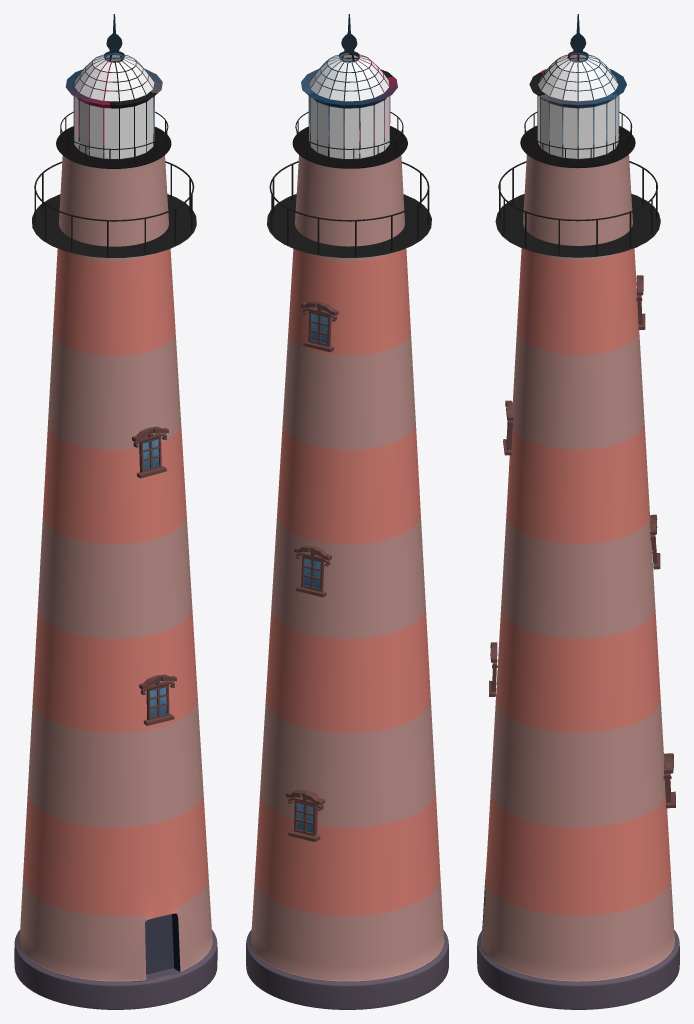
File: Low-Poly_Lighthouse.glb
The picture shows the model from 3 angles, left to right: view 1: azimuth 30°, elevation 25°; view 2: azimuth 150°, elevation 25°; view 3: azimuth 270°, elevation 25°; orthographic projection.
Parts seen in each view (by area): view 1: unnamed (×8); view 2: unnamed (×9); view 3: unnamed (×7).
Part boxes in pixels (x1=…): unnamed (×8): x1=14, y1=53, x2=217, y2=1009; unnamed (×9): x1=246, y1=53, x2=448, y2=1009; unnamed (×7): x1=477, y1=53, x2=679, y2=1009.
Bounding box in the file's own units: 0.5122 × 2.65 × 0.5122.
3 materials, 2 textured.
